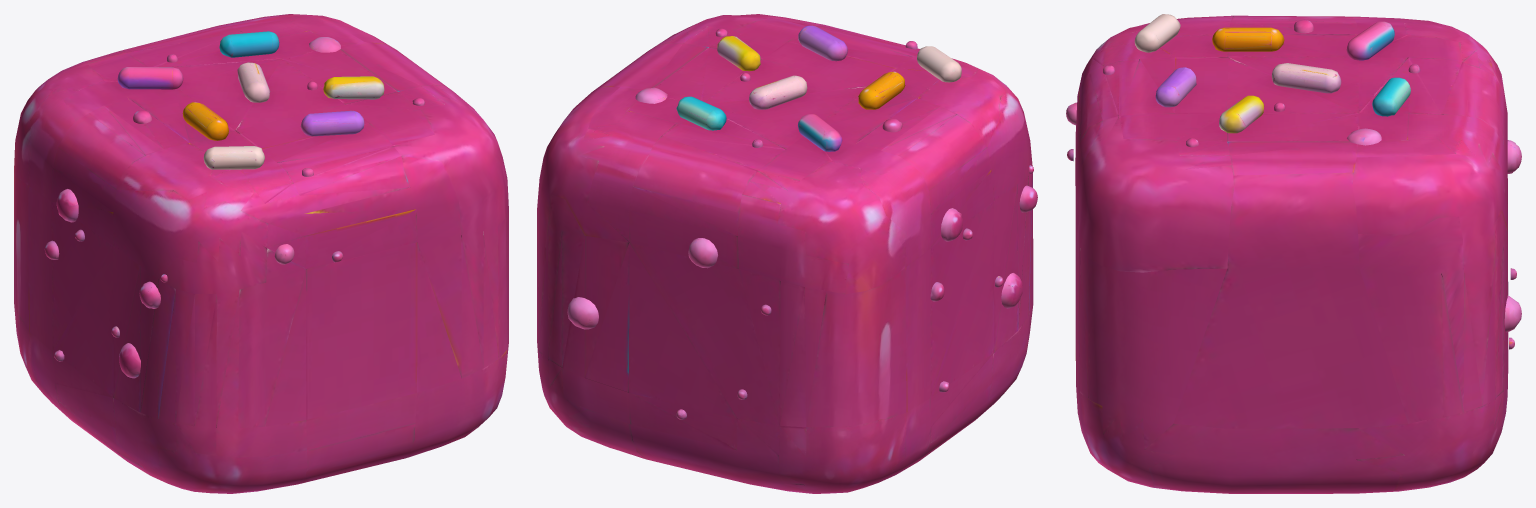
Rendered from jelly_block.glb.
3 renders of one model, left to right at view 1: azimuth 30°, elevation 25°; view 2: azimuth 150°, elevation 25°; view 3: azimuth 270°, elevation 25°, orthographic. The views are drawn at different scales.
Size of what is drawn, in the model's own units: 1.14 by 1 by 1.16.
Materials: 1 (1 with a texture image).
